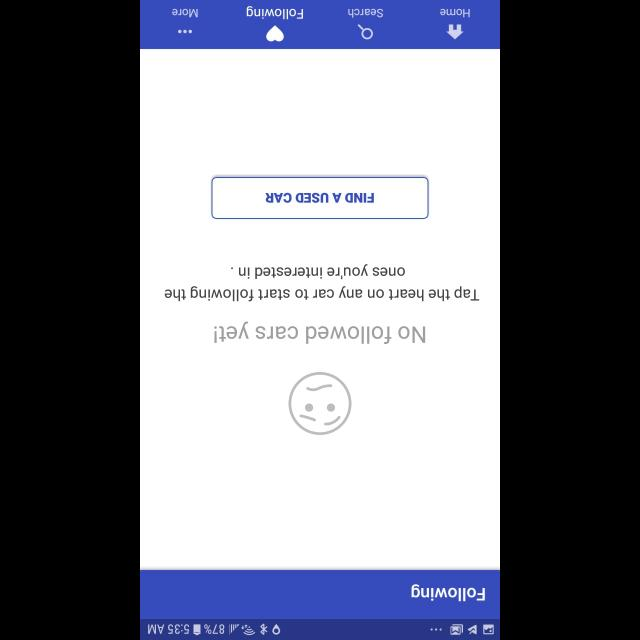icon: (288, 372, 352, 434), (266, 26, 284, 42), (446, 24, 464, 40), (357, 24, 373, 40), (178, 30, 192, 34)
text: (165, 264, 480, 302), (214, 321, 426, 344), (411, 583, 485, 601), (245, 6, 302, 20), (348, 9, 382, 19), (439, 8, 469, 18), (172, 8, 198, 18)
textbutton: (212, 177, 428, 219)
uppertaskbar: (140, 618, 500, 640)
